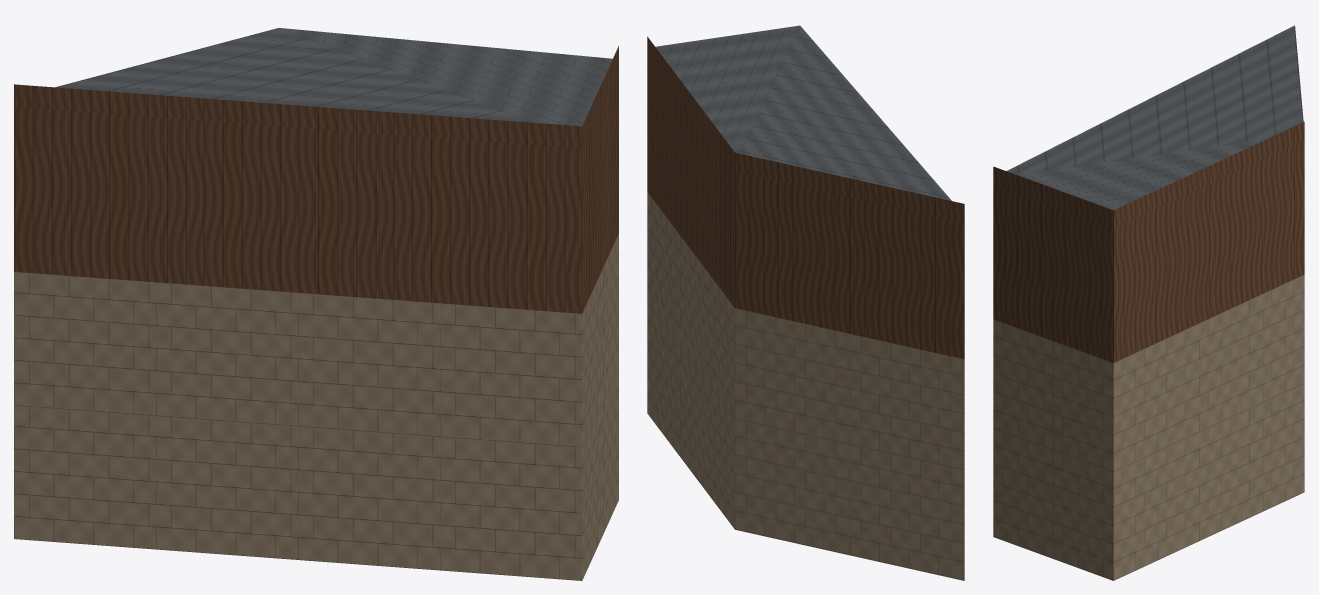
Rendered from bld_c12_41_476.gltf.
3 views of the same model, side by side, from view 1: azimuth 30°, elevation 25°; view 2: azimuth 150°, elevation 25°; view 3: azimuth 270°, elevation 25° (orthographic). The views are drawn at different scales.
Parts seen in each view (by area): view 1: bld_c12_41_476; view 2: bld_c12_41_476; view 3: bld_c12_41_476.
Boxes of the visible parts, x1,y1,x2,y2 form: bld_c12_41_476: (14, 28, 618, 580); bld_c12_41_476: (647, 25, 964, 580); bld_c12_41_476: (993, 25, 1304, 580).
Size of the model in its own units: 8.95 by 7.88 by 6.
Materials: 4 (4 with a texture image).
